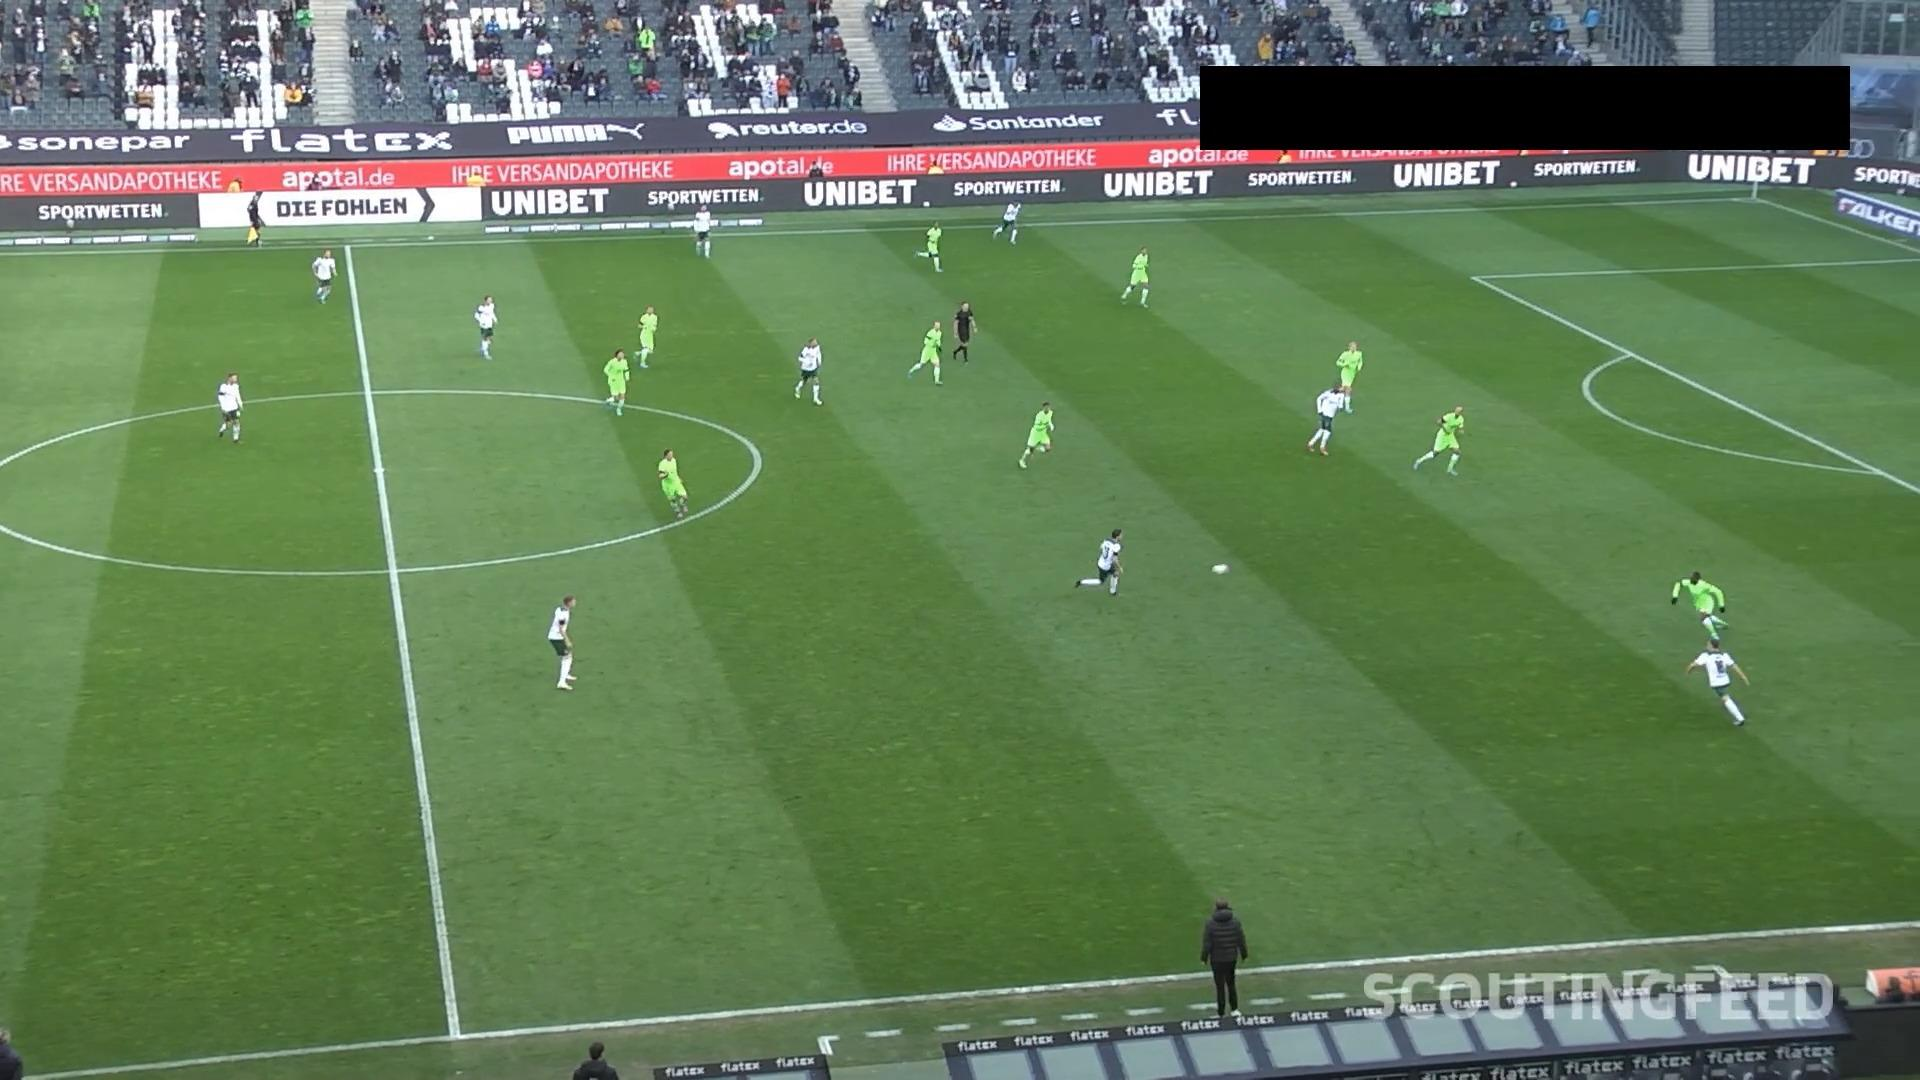ball: (1211, 562, 1232, 576)
